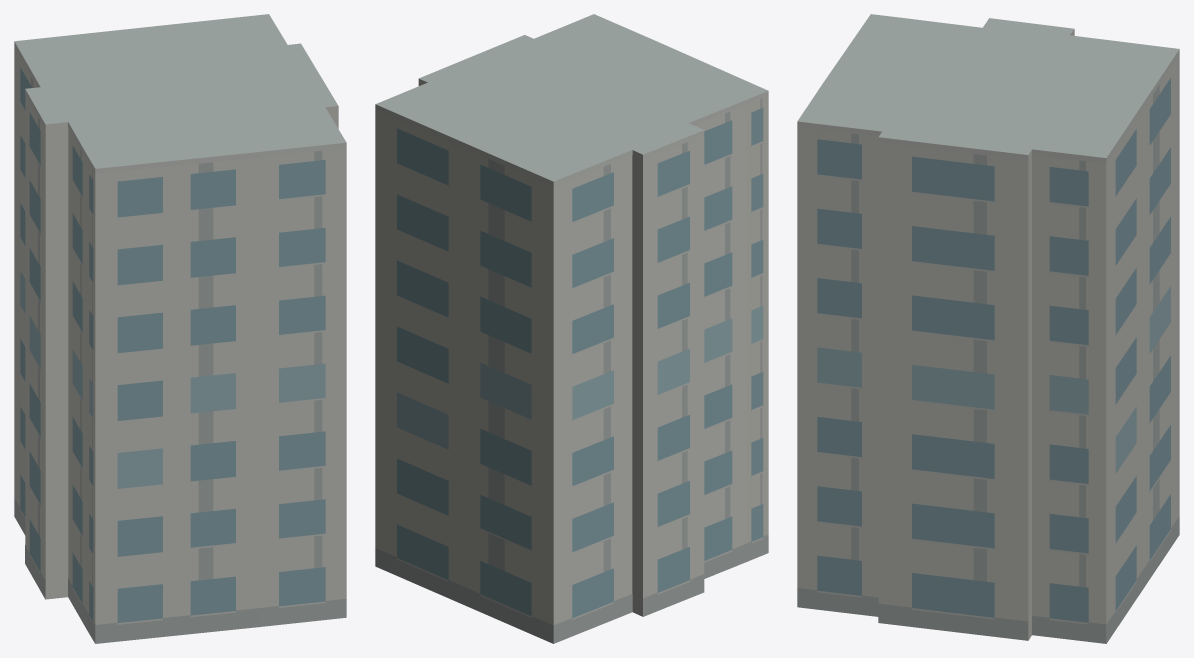
File: residential-09497a08-4ce9-4da3-ad8f-97c8f17fefb8.glb
The picture shows the model from 3 angles, left to right: view 1: azimuth 30°, elevation 25°; view 2: azimuth 150°, elevation 25°; view 3: azimuth 270°, elevation 25°; orthographic projection. The views are drawn at different scales.
Parts seen in each view (by area): view 1: residential-09497a08-4ce9-4da3-ad8f-97c8f17fefb8.tmp; view 2: residential-09497a08-4ce9-4da3-ad8f-97c8f17fefb8.tmp; view 3: residential-09497a08-4ce9-4da3-ad8f-97c8f17fefb8.tmp.
Boxes of the visible parts, x1,y1,x2,y2 form: residential-09497a08-4ce9-4da3-ad8f-97c8f17fefb8.tmp: [14, 14, 346, 643]; residential-09497a08-4ce9-4da3-ad8f-97c8f17fefb8.tmp: [375, 14, 768, 643]; residential-09497a08-4ce9-4da3-ad8f-97c8f17fefb8.tmp: [797, 14, 1179, 643].
Bounding box in the file's own units: 13.6 × 21.35 × 15.24.
